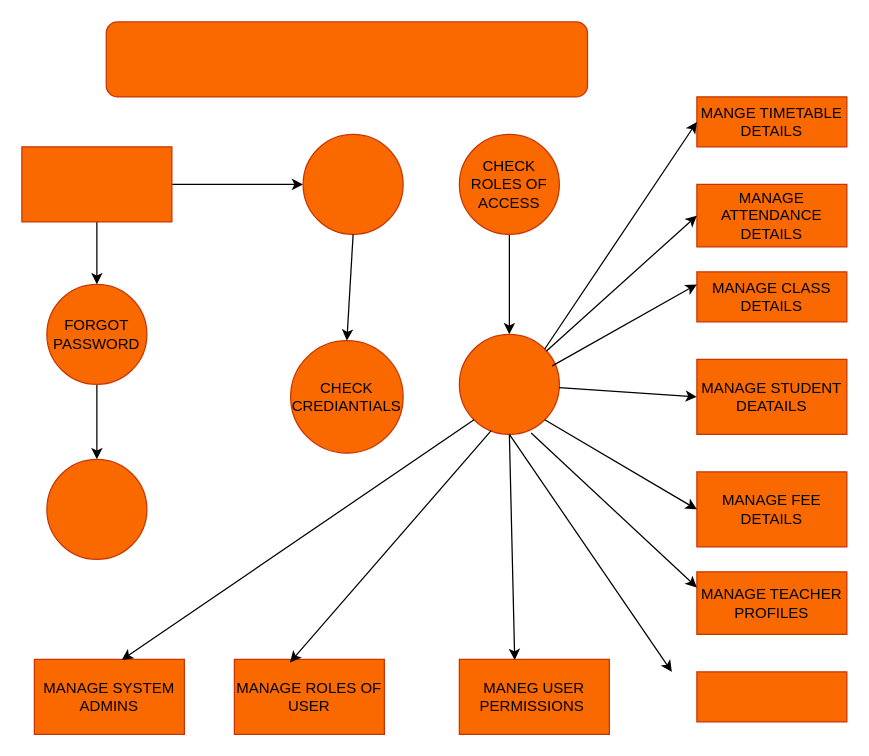
This 869x756 diagram has some shape labels left out. The centre of each missing label's shape, as x and y in pixels:
"ADMIN" belongs at (96,184).
"LOGIN TO SYSTEM" belongs at (352,183).
"MANAGE MODULES" belongs at (508,383).
"MANAGE REREPORT" belongs at (771,696).
"SEND EMAIL TO USER" belongs at (96,508).
"STUDENT INFORMATION SYSTEM" belongs at (346,59).
